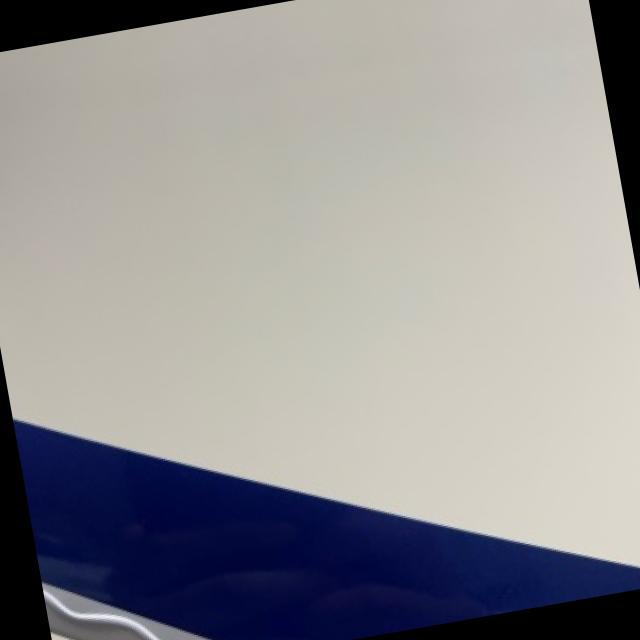healthy: (12, 418, 640, 640)
